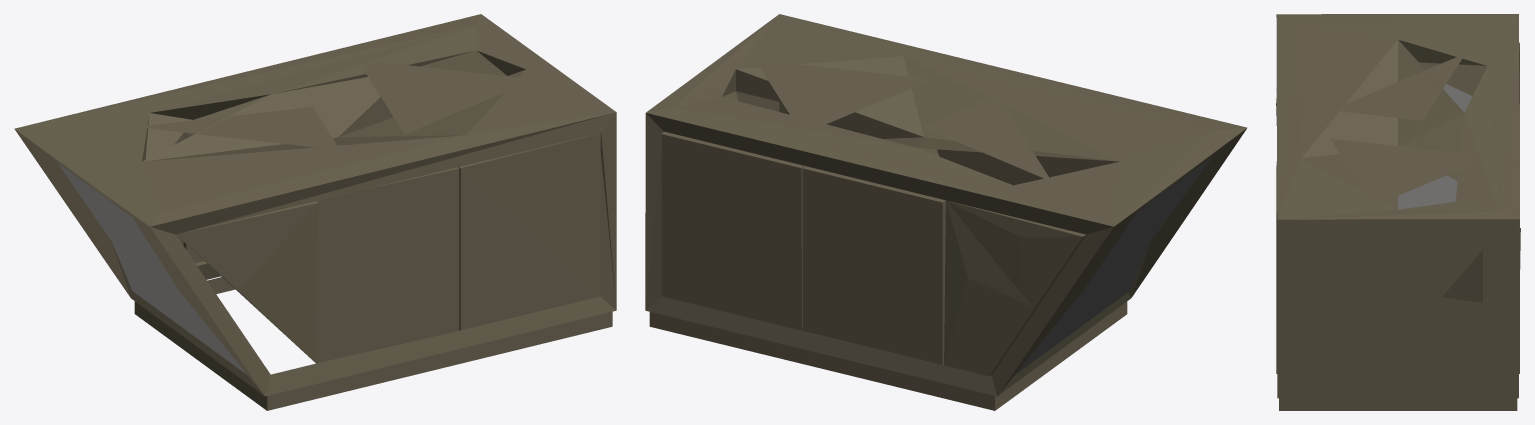
File: hvac-unit.lod2.glb
The picture shows the model from 3 angles, left to right: view 1: azimuth 30°, elevation 25°; view 2: azimuth 150°, elevation 25°; view 3: azimuth 270°, elevation 25°; orthographic projection. The views are drawn at different scales.
Parts seen in each view (by area): view 1: Object_6; view 2: Object_6; view 3: Object_6.
Part boxes in pixels (x1,y1,x2,y2): Object_6: (14,14,616,410); Object_6: (645,14,1247,410); Object_6: (1276,14,1520,410).
Size of the model in its own units: 2.58 by 1.1 by 1.27.
